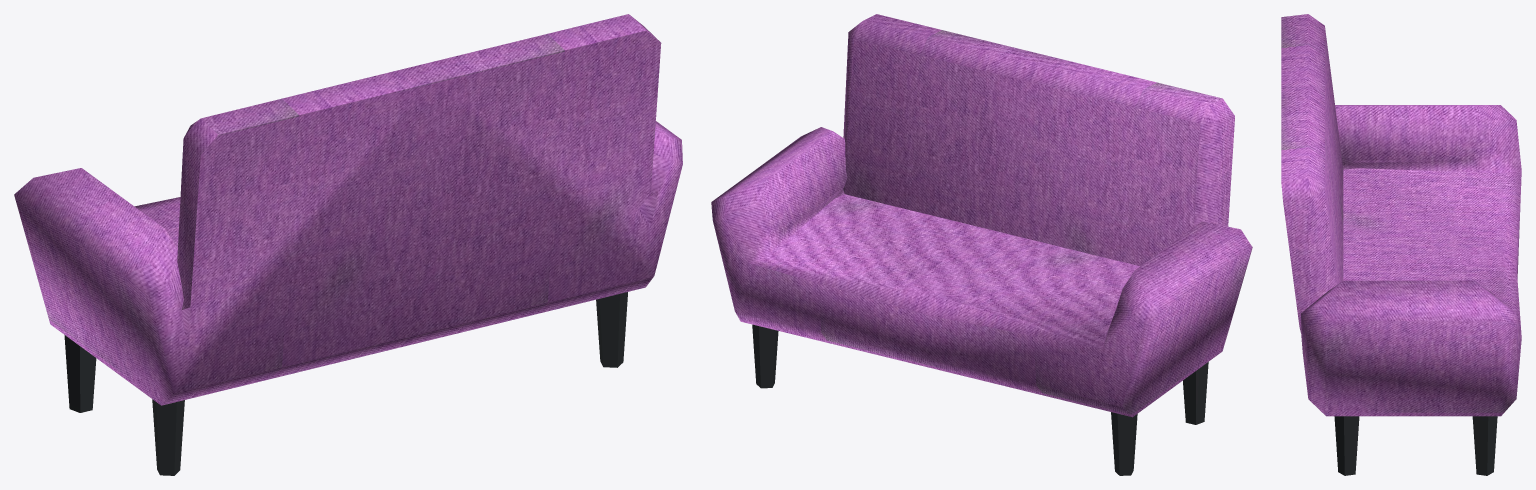
File: Armchair_09.glb
3 views of the same model, side by side, from view 1: azimuth 30°, elevation 25°; view 2: azimuth 150°, elevation 25°; view 3: azimuth 270°, elevation 25° (orthographic). The views are drawn at different scales.
Visible parts, largest first — view 1: Armchair_09; view 2: Armchair_09; view 3: Armchair_09.
Part boxes in pixels (bbox=[...]): Armchair_09: bbox=[14, 14, 682, 475]; Armchair_09: bbox=[711, 14, 1252, 475]; Armchair_09: bbox=[1281, 14, 1521, 475].
Bounding box in the file's own units: 1.69 × 1.07 × 0.801.
2 materials, 2 textured.
